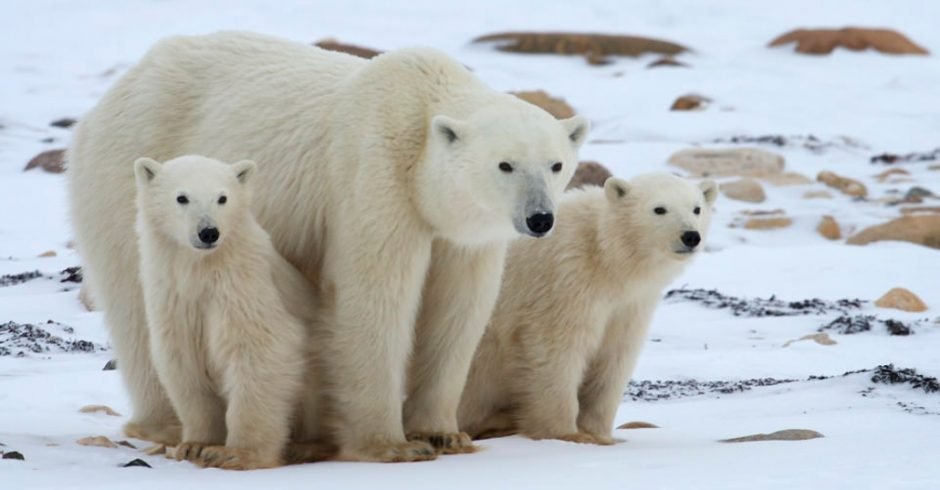Polar Bear: (157, 27, 568, 437), (121, 142, 319, 490), (587, 117, 755, 469)
